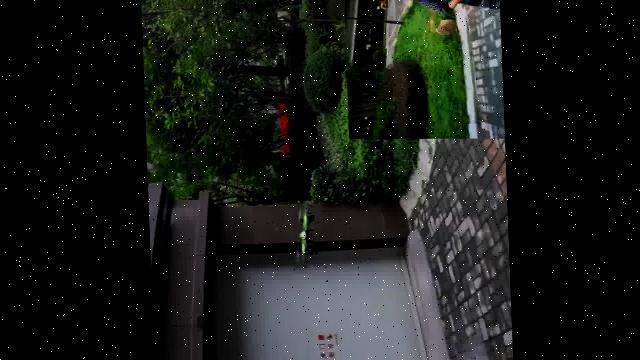drone: (289, 193, 325, 275)
